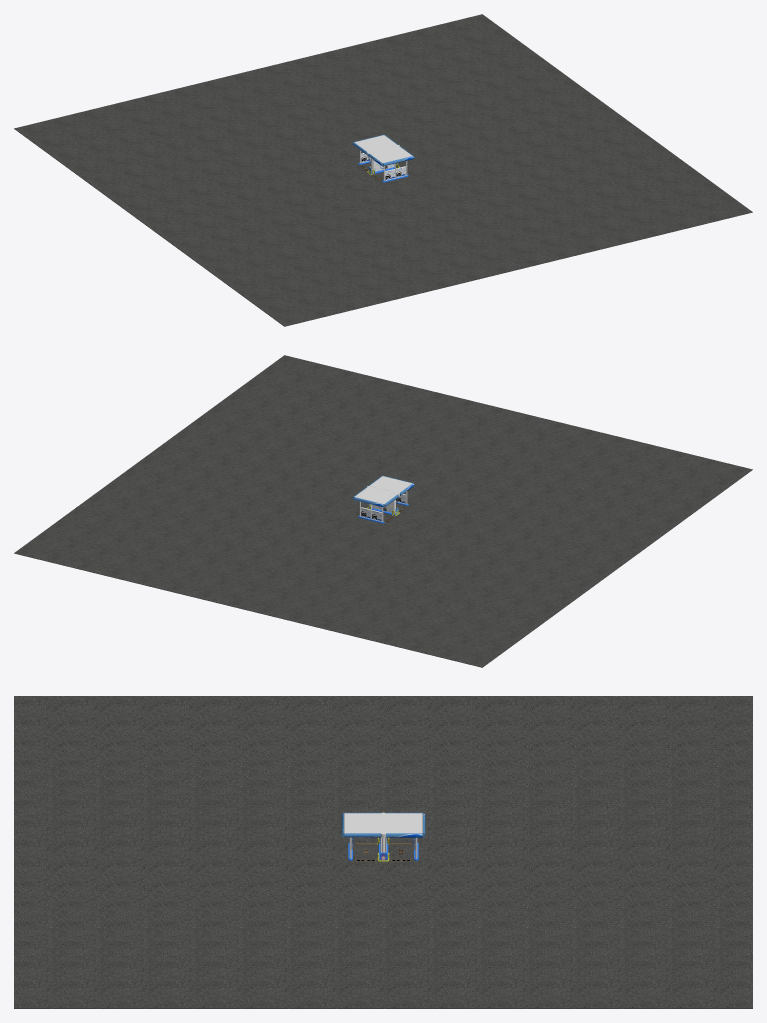
File: Автомойка.fbx
3 views of the same model, one above another, from view 1: azimuth 30°, elevation 25°; view 2: azimuth 150°, elevation 25°; view 3: azimuth 270°, elevation 25° (orthographic). The views are drawn at different scales.
Parts seen in each view (by area): view 1: Куб; view 2: Куб; view 3: Куб, Куб.006, Куб.005.
Boxes of the visible parts, <box> form: Куб: <box>14,14,752,326</box>; Куб: <box>14,355,752,667</box>; Куб: <box>14,696,752,1008</box>; Куб.006: <box>386,813,422,833</box>; Куб.005: <box>344,813,380,833</box>.
Bounding box in the file's own units: 31489 × 1393 × 31489.
16 materials, 8 textured.
